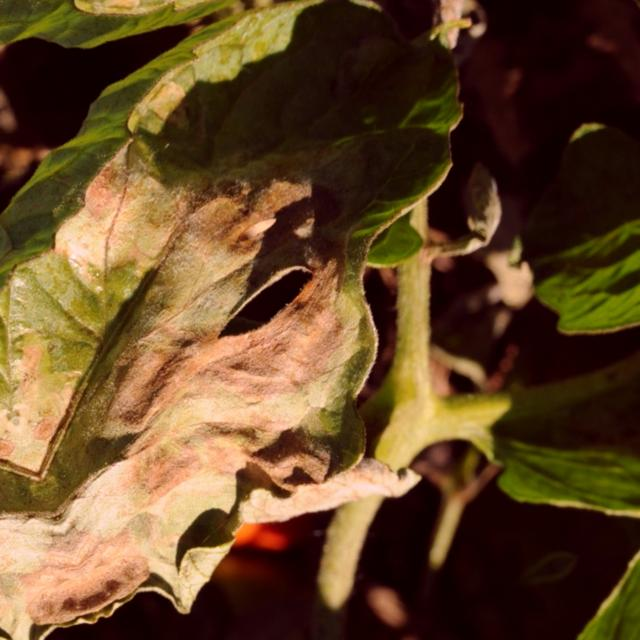Tomato leaf late blight: (0, 0, 600, 640)
